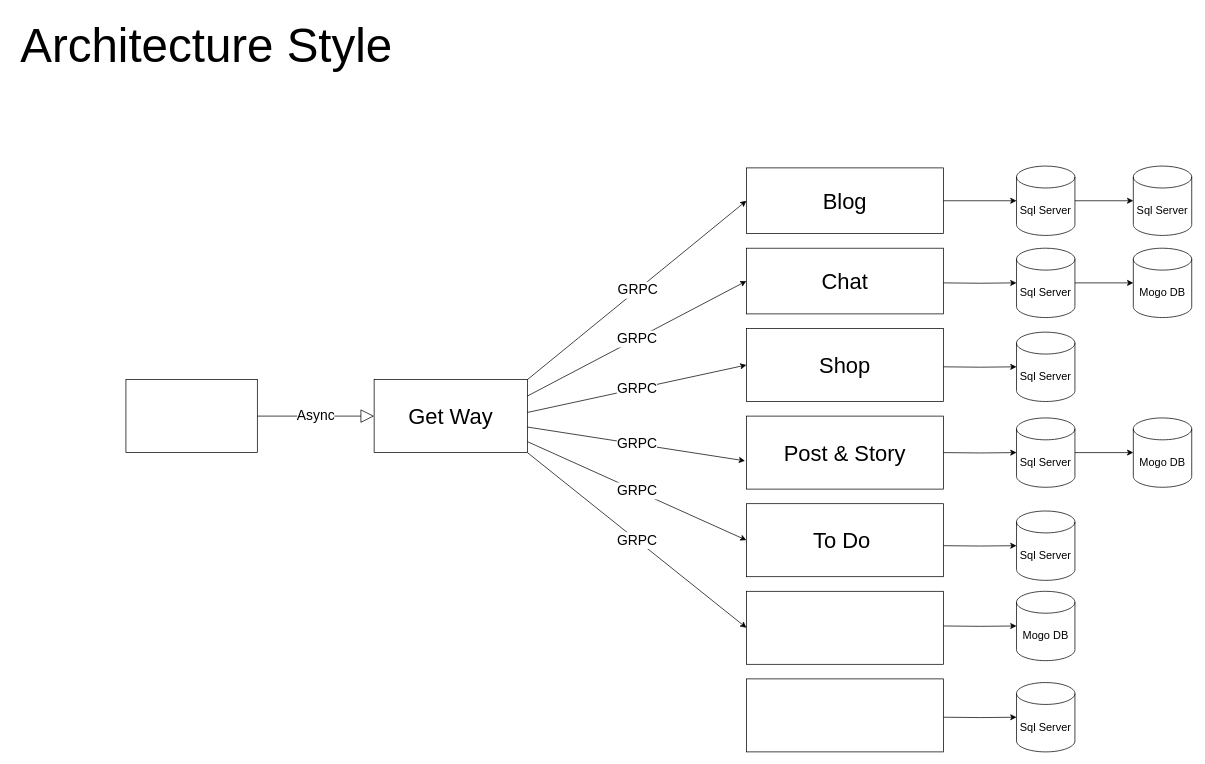
This 1205x764 diagram has some shape labels left out. Here are the shapes that lost their labels. From the top down, the centre of each, then its label:
At point 191,416: "Client".
At point 845,627: "Supporting".
At point 845,715: "Events".
